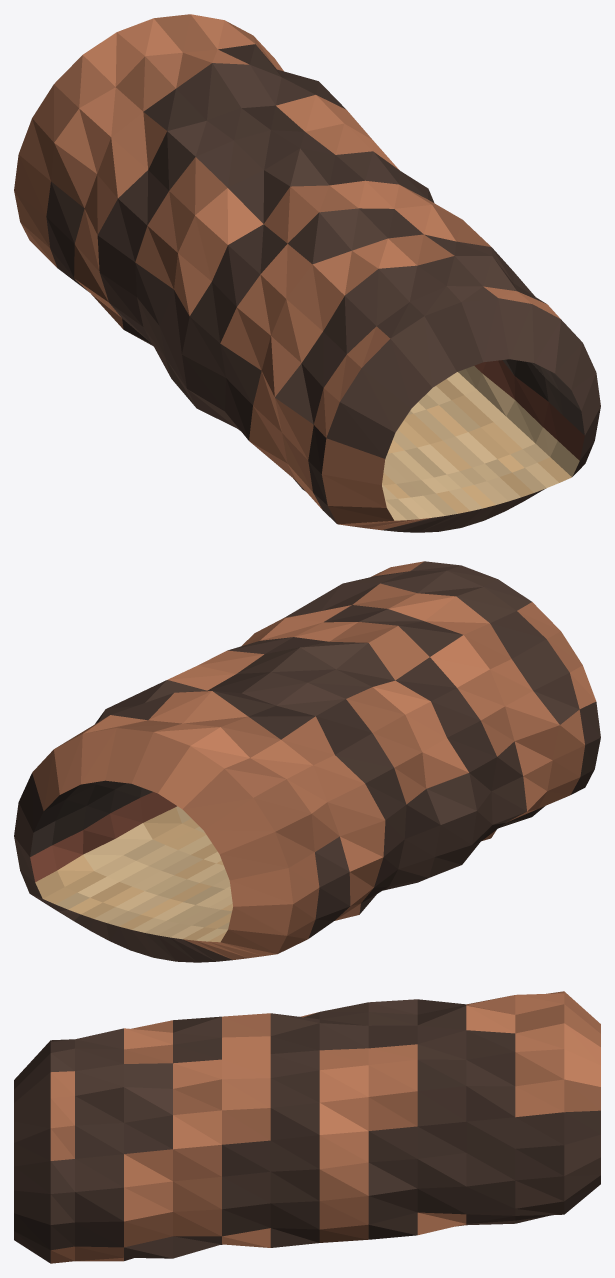
The model's file is lava_tube_run.glb.
3 renders of one model, top to bottom at view 1: azimuth 30°, elevation 25°; view 2: azimuth 150°, elevation 25°; view 3: azimuth 270°, elevation 25°, orthographic. The views are drawn at different scales.
Visible parts, largest first — view 1: lava_tube_run; view 2: lava_tube_run; view 3: lava_tube_run.
Part boxes in pixels (left/top/right/bottom): lava_tube_run: left=14, top=14, right=600, bottom=532; lava_tube_run: left=14, top=561, right=600, bottom=962; lava_tube_run: left=14, top=991, right=600, bottom=1263.
Bounding box in the file's own units: 23.27 × 21.52 × 48.
